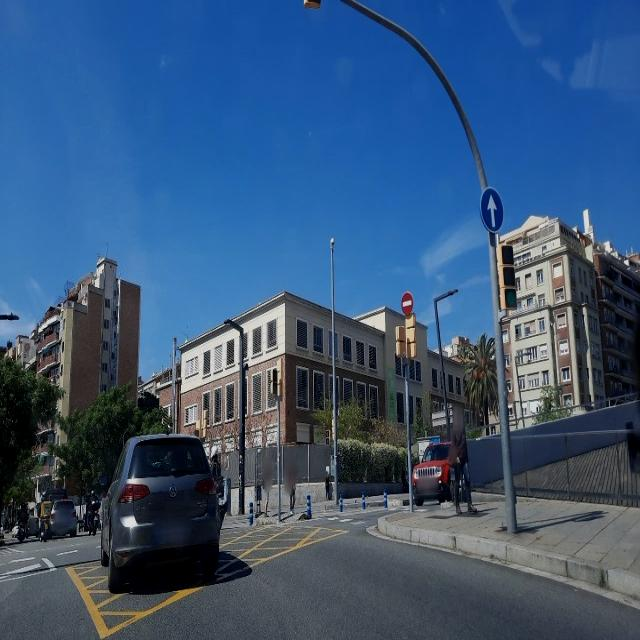bike: (16, 513, 30, 545), (88, 502, 100, 536), (38, 508, 49, 542)
car: (100, 431, 222, 594), (412, 439, 458, 505), (48, 497, 78, 539)
